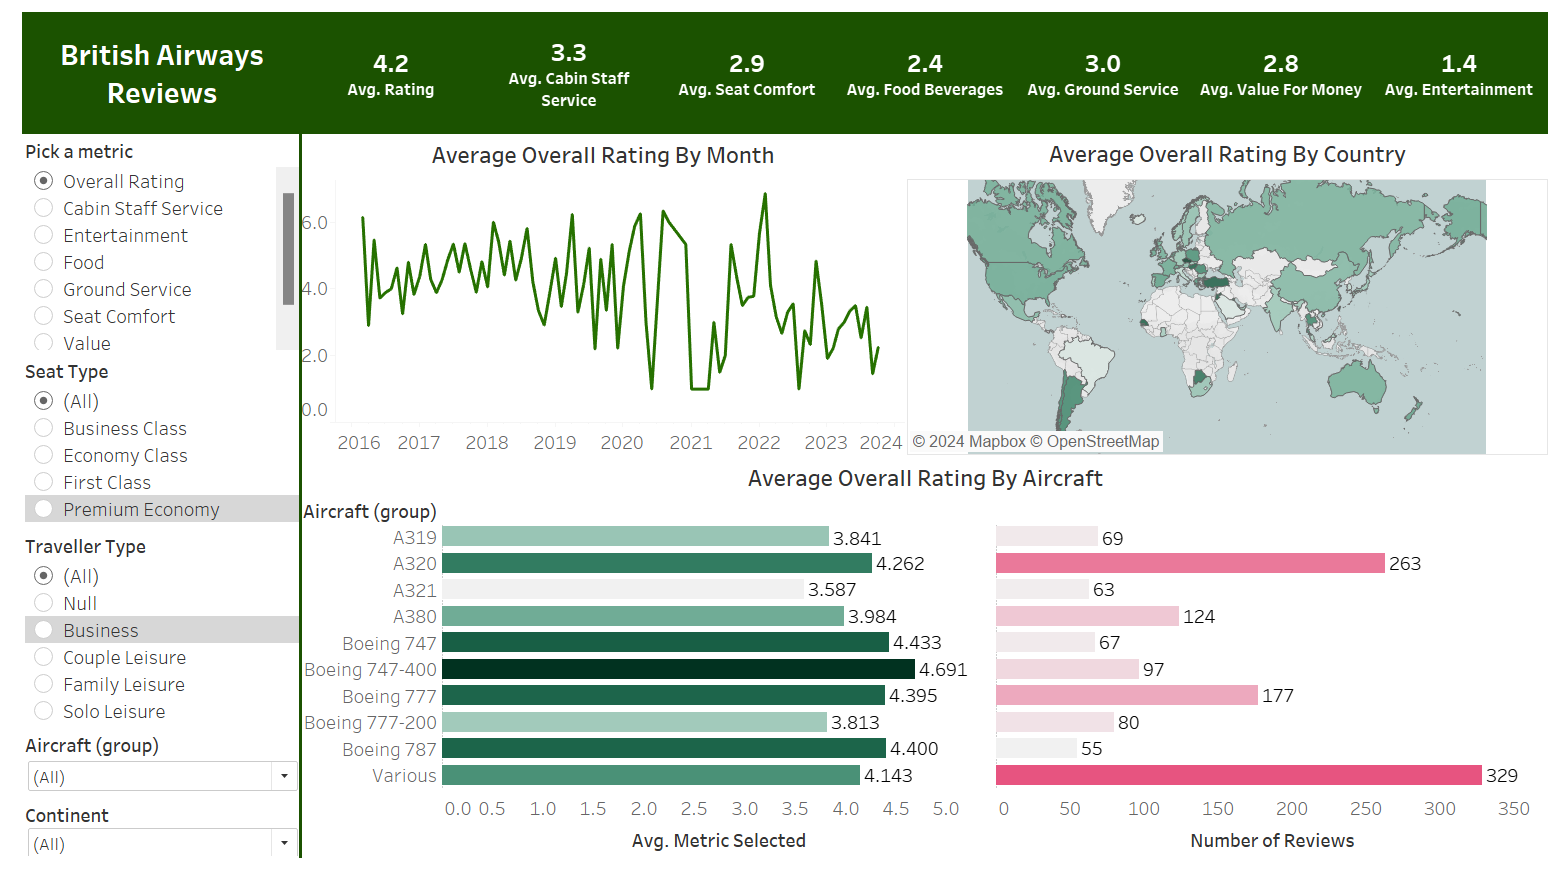

Layout of this report page (visuals, bound fields, positions):
{"tool":"tableau","page":{"name":"Dashboard 1","canvas":[1530,850],"ordinal":0},"visuals":[{"type":"text","box":[0,0,280,122]},{"type":"worksheet","title":"Summary","mark":"Automatic","box":[280.5,0,1245.7,122.2]},{"type":"blank","box":[277,120,3,726]},{"type":"worksheet","title":"Country","mark":"Automatic","box":[885,122,641,321]},{"type":"worksheet","title":"Month","mark":"Automatic","rows":["Calculation_543528207487049729"],"cols":["date"],"box":[279,123,604,319]},{"type":"worksheet","title":"Aircraft","mark":"Automatic","cols":["Calculation_543528207487049729","ba_reviews.csv_3ECA3D2E0051418BAB66B9EB5E3EA03E"],"box":[280,446,1247,401]}]}

Visuals, with their boxes in screenshot pixels (x1, y1, x2, y2), scaled from the page's 1530x850 canvas onto the 1564x892 screenshot:
text: {"left": 0, "top": 0, "right": 286, "bottom": 128}
"Summary" worksheet: {"left": 287, "top": 0, "right": 1560, "bottom": 128}
blank: {"left": 283, "top": 126, "right": 286, "bottom": 888}
"Country" worksheet: {"left": 905, "top": 128, "right": 1560, "bottom": 465}
"Month" worksheet: {"left": 285, "top": 129, "right": 903, "bottom": 464}
"Aircraft" worksheet: {"left": 286, "top": 468, "right": 1561, "bottom": 889}
